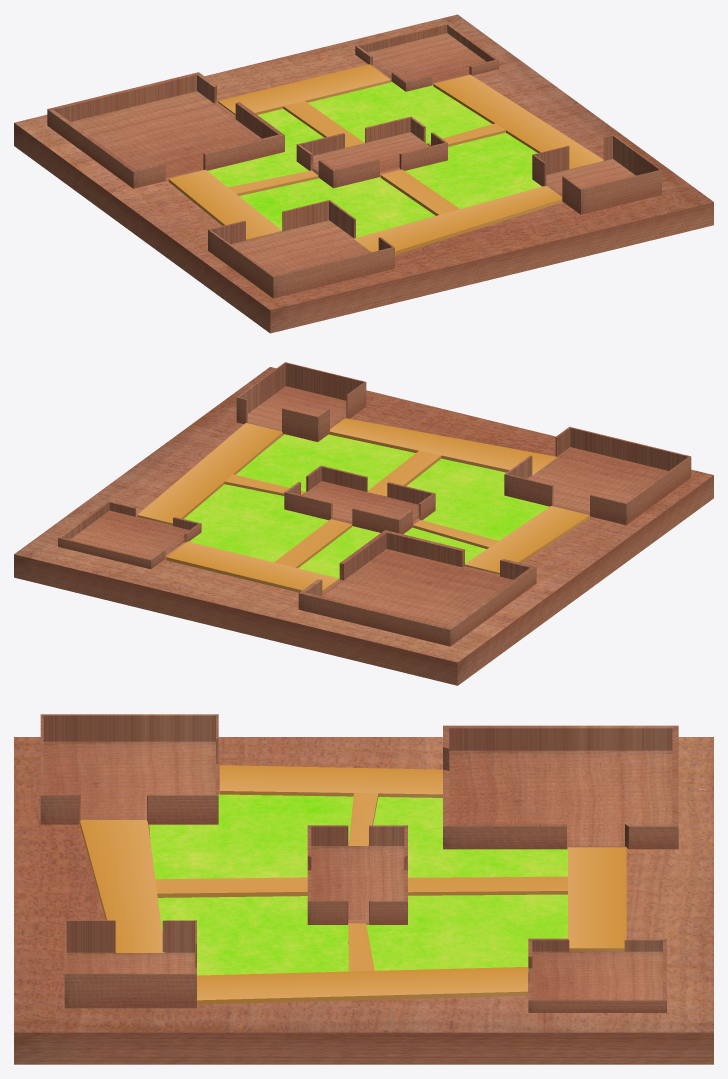
The model's file is stage.fbx.
3 renders of one model, top to bottom at view 1: azimuth 30°, elevation 25°; view 2: azimuth 150°, elevation 25°; view 3: azimuth 270°, elevation 25°, orthographic. The views are drawn at different scales.
Visible parts, largest first — view 1: Box011, Box016, Box017, Box019, Box020, Box018, Box015, Box021, Box008, Box009, Box010; view 2: Box011, Box016, Box017, Box019, Box018, Box020, Box015, Box021, Box008, Box009, Box010; view 3: Box011, Box016, Box017, Box019, Box008, Box015, Box018, Box021, Box020, Box009, Box010.
Part boxes in pixels (left/top/right/bottom): Box011: left=14, top=14, right=713, bottom=333; Box016: left=207, top=81, right=541, bottom=237; Box017: left=47, top=72, right=284, bottom=188; Box019: left=208, top=200, right=394, bottom=298; Box020: left=296, top=116, right=447, bottom=188; Box018: left=532, top=135, right=661, bottom=214; Box015: left=353, top=169, right=562, bottom=254; Box021: left=355, top=23, right=498, bottom=91; Box008: left=427, top=74, right=603, bottom=169; Box009: left=218, top=64, right=390, bottom=147; Box010: left=168, top=169, right=318, bottom=240; Box011: left=14, top=367, right=713, bottom=685; Box016: left=184, top=434, right=549, bottom=579; Box017: left=298, top=530, right=536, bottom=646; Box019: left=504, top=426, right=691, bottom=524; Box018: left=236, top=362, right=366, bottom=441; Box020: left=284, top=465, right=435, bottom=534; Box015: left=329, top=418, right=557, bottom=496; Box021: left=58, top=501, right=201, bottom=569; Box008: left=137, top=423, right=305, bottom=525; Box009: left=166, top=519, right=352, bottom=592; Box010: left=413, top=506, right=589, bottom=574; Box011: left=14, top=737, right=713, bottom=1064; Box016: left=149, top=794, right=567, bottom=975; Box017: left=443, top=725, right=678, bottom=849; Box019: left=40, top=714, right=218, bottom=824; Box008: left=197, top=923, right=527, bottom=1004; Box015: left=80, top=820, right=307, bottom=953; Box018: left=64, top=920, right=196, bottom=1008; Box021: left=528, top=938, right=666, bottom=1012; Box020: left=307, top=825, right=407, bottom=924; Box009: left=408, top=847, right=626, bottom=950; Box010: left=219, top=765, right=442, bottom=845.
Size of the model in its own units: 5906 by 5906 by 631.
